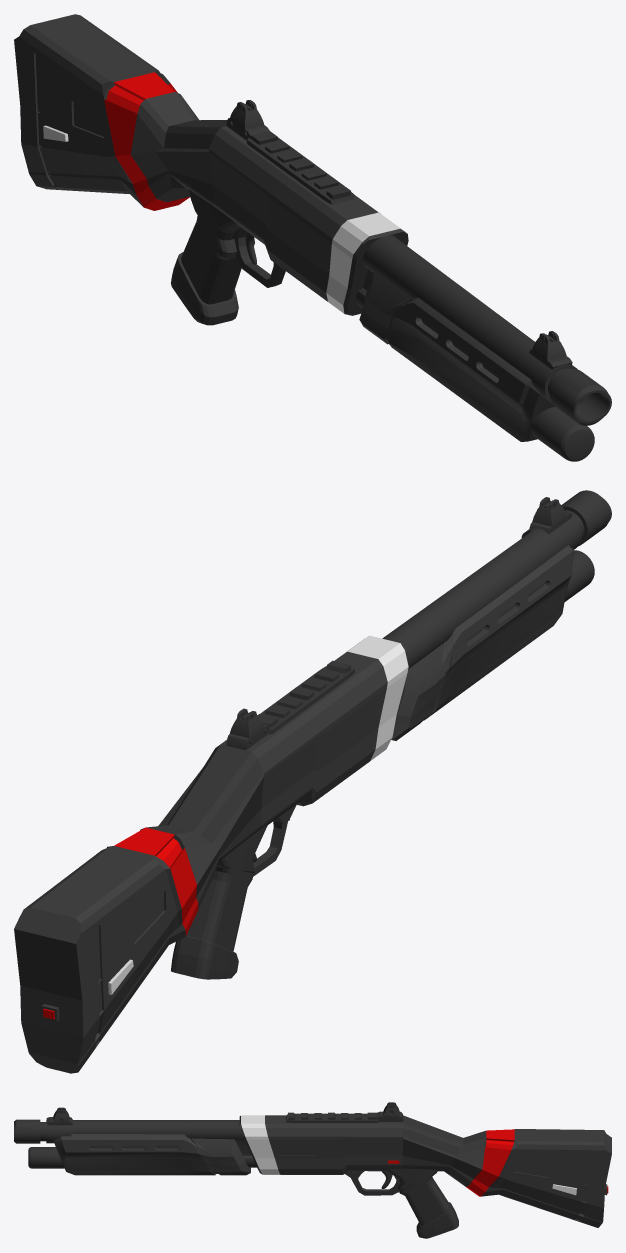
The model's file is gun№1.fbx.
3 renders of one model, top to bottom at view 1: azimuth 30°, elevation 25°; view 2: azimuth 150°, elevation 25°; view 3: azimuth 270°, elevation 25°, orthographic. The views are drawn at different scales.
Parts seen in each view (by area): view 1: warp(main), restartPulya, dulo, zig-zag, support, FBSupport, crohair, mushka; view 2: warp(main), restartPulya, dulo, zig-zag, crohair, mushka, FBSupport, support; view 3: warp(main), restartPulya, dulo, zig-zag, support, FBSupport, crohair, mushka, main sicret.
Part boxes in pixels (x1,y1,x2,y2): warp(main): (14, 14, 408, 325); restartPulya: (359, 272, 554, 441); dulo: (362, 235, 611, 425); zig-zag: (247, 131, 354, 204); support: (531, 406, 594, 461); FBSupport: (233, 227, 285, 287); crohair: (226, 100, 269, 140); mushka: (529, 331, 572, 369); warp(main): (14, 635, 408, 1073); restartPulya: (391, 545, 573, 740); dulo: (382, 490, 611, 669); zig-zag: (257, 660, 354, 734); crohair: (226, 708, 269, 750); mushka: (529, 497, 572, 534); FBSupport: (253, 804, 296, 876); support: (564, 550, 594, 601); warp(main): (239, 1115, 611, 1238); restartPulya: (53, 1134, 250, 1175); dulo: (14, 1119, 244, 1143); zig-zag: (286, 1112, 379, 1122); support: (28, 1147, 64, 1168); FBSupport: (345, 1170, 400, 1195); crohair: (377, 1102, 403, 1121); mushka: (46, 1107, 72, 1125); main sicret: (236, 1140, 256, 1167).
Size of the model in its own units: 98.18 by 332 by 1371.
